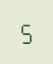five: (19, 20, 32, 44)
